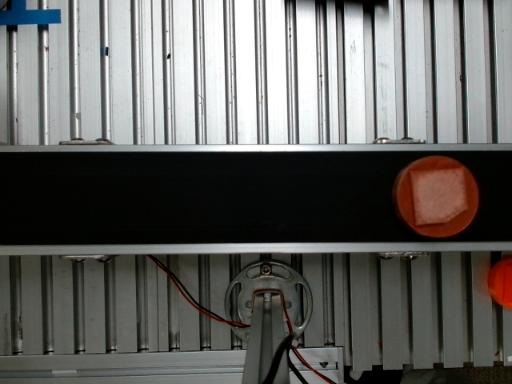Brown_Waper: (393, 155, 478, 238)
Not_Square: (409, 168, 469, 227)
